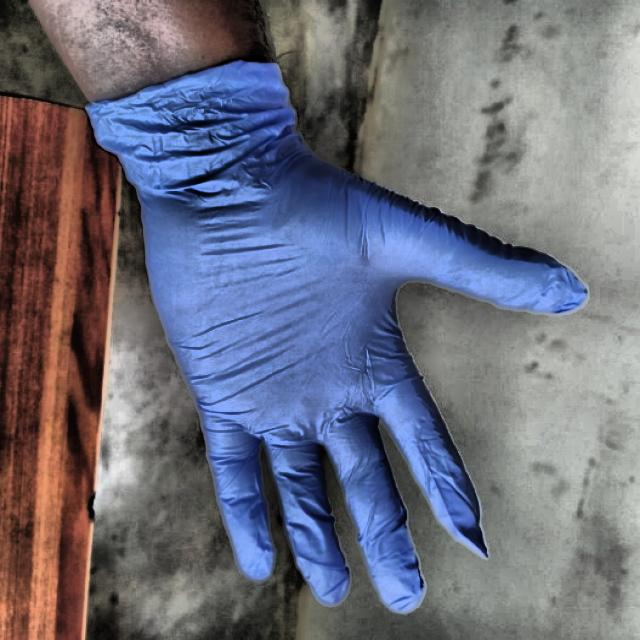gloved: (77, 57, 593, 617)
